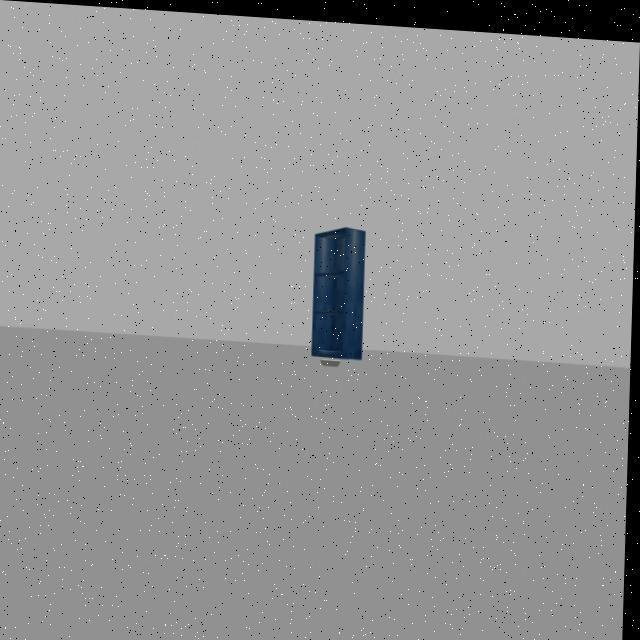bowl: (320, 348, 347, 370)
shelf: (305, 210, 377, 355)
